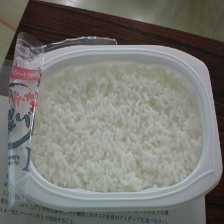rice: (29, 57, 205, 195)
